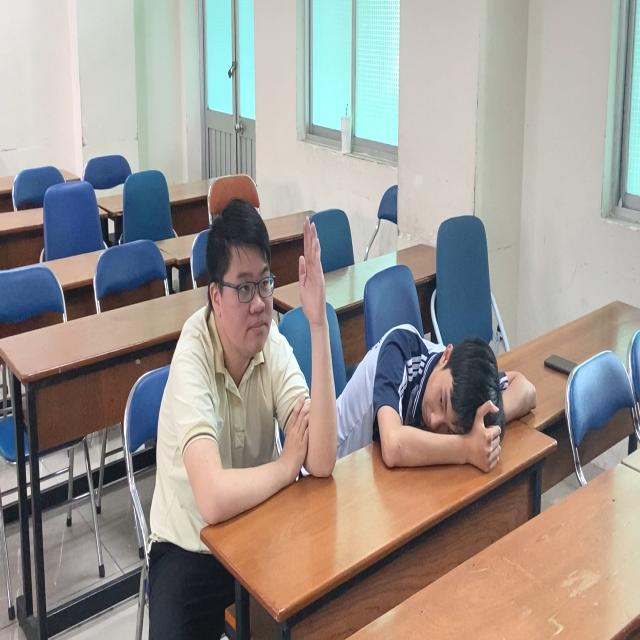raise_hand: (147, 199, 337, 547)
sleep: (355, 311, 536, 482)
